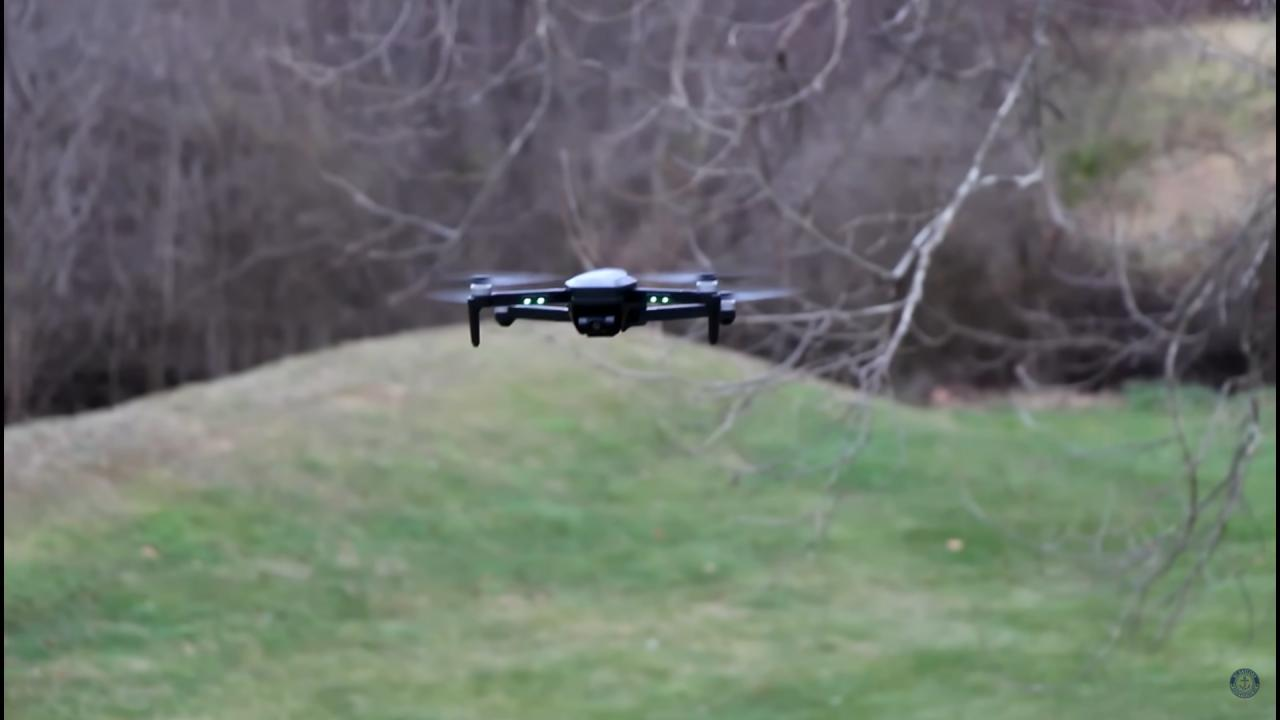Drone: (400, 244, 820, 358)
